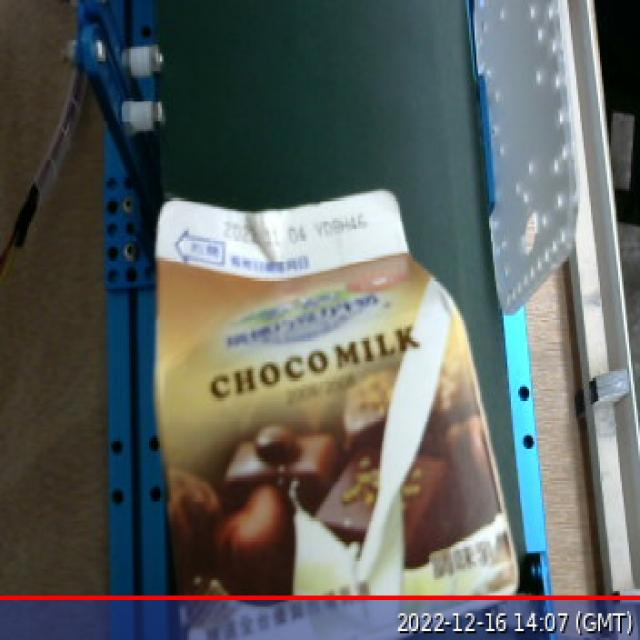non_white_jug: (143, 178, 538, 636)
